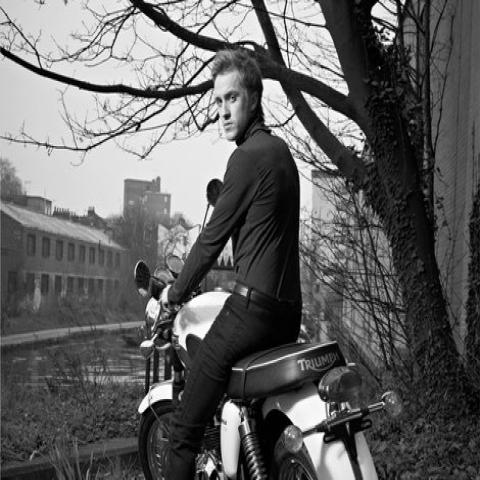motorcycle: (132, 243, 408, 474)
